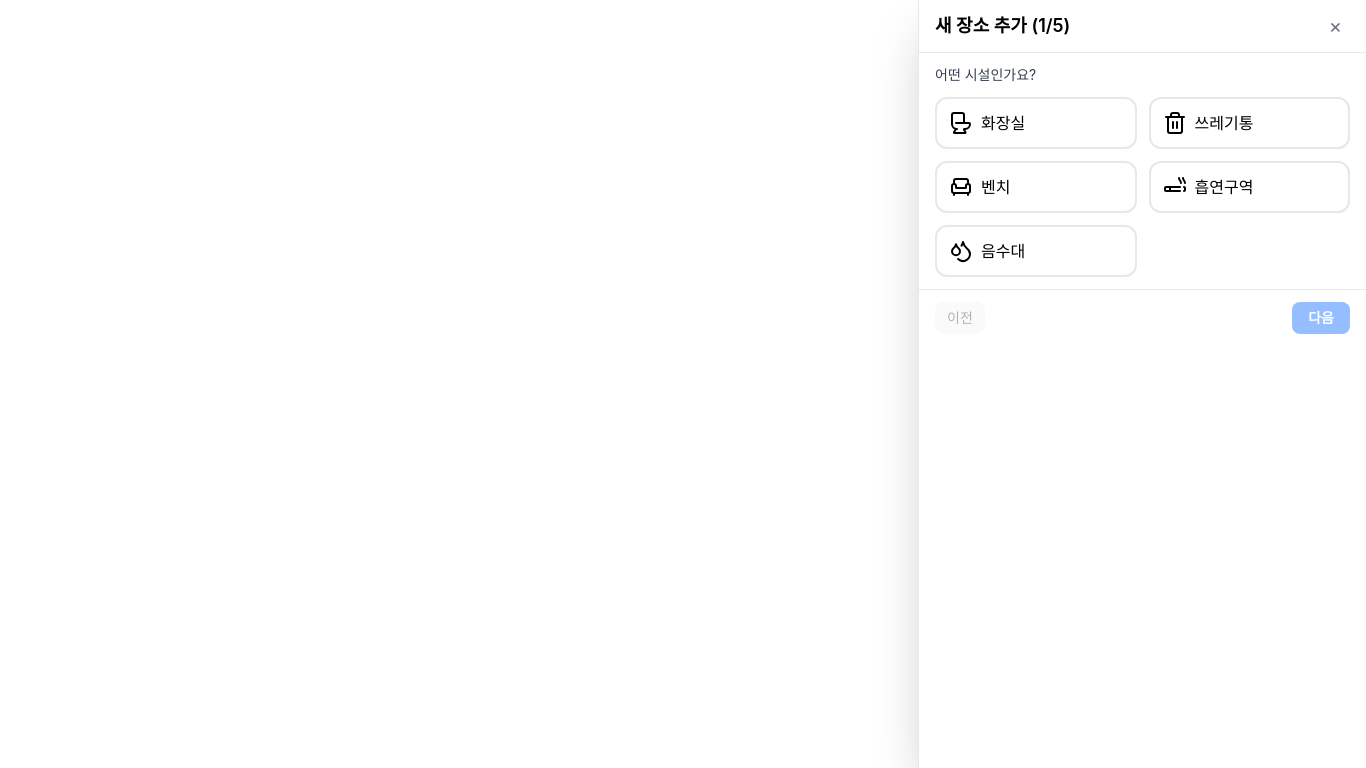
Scenario: SubmitSheet › next is disabled until a type is picked
Expected: the button with test id "submit-next" is disabled, [1292,302,1350,334]
Click the button with test id "submit-type-toilet" at (1036, 123), box [935,97,1136,149]
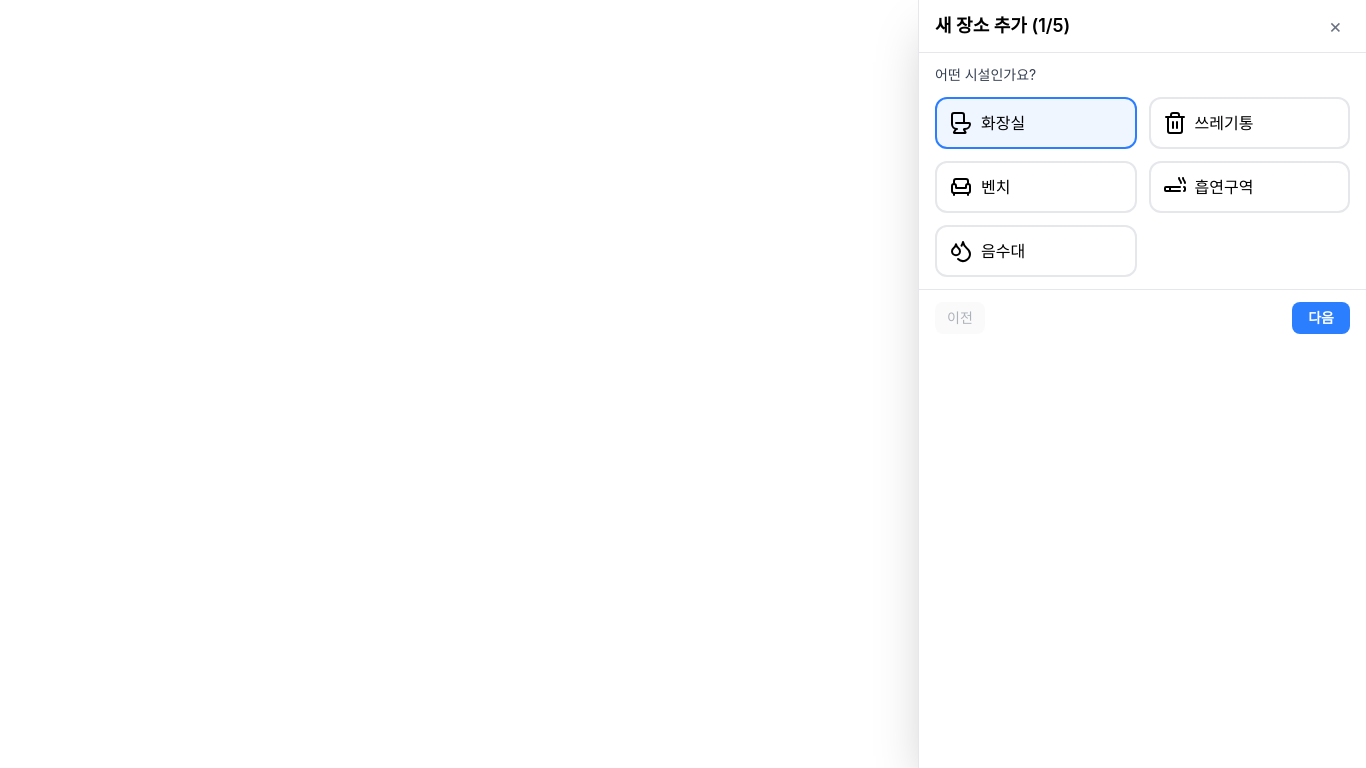
Now the button with test id "submit-next" is enabled, box [1292,302,1350,334]
